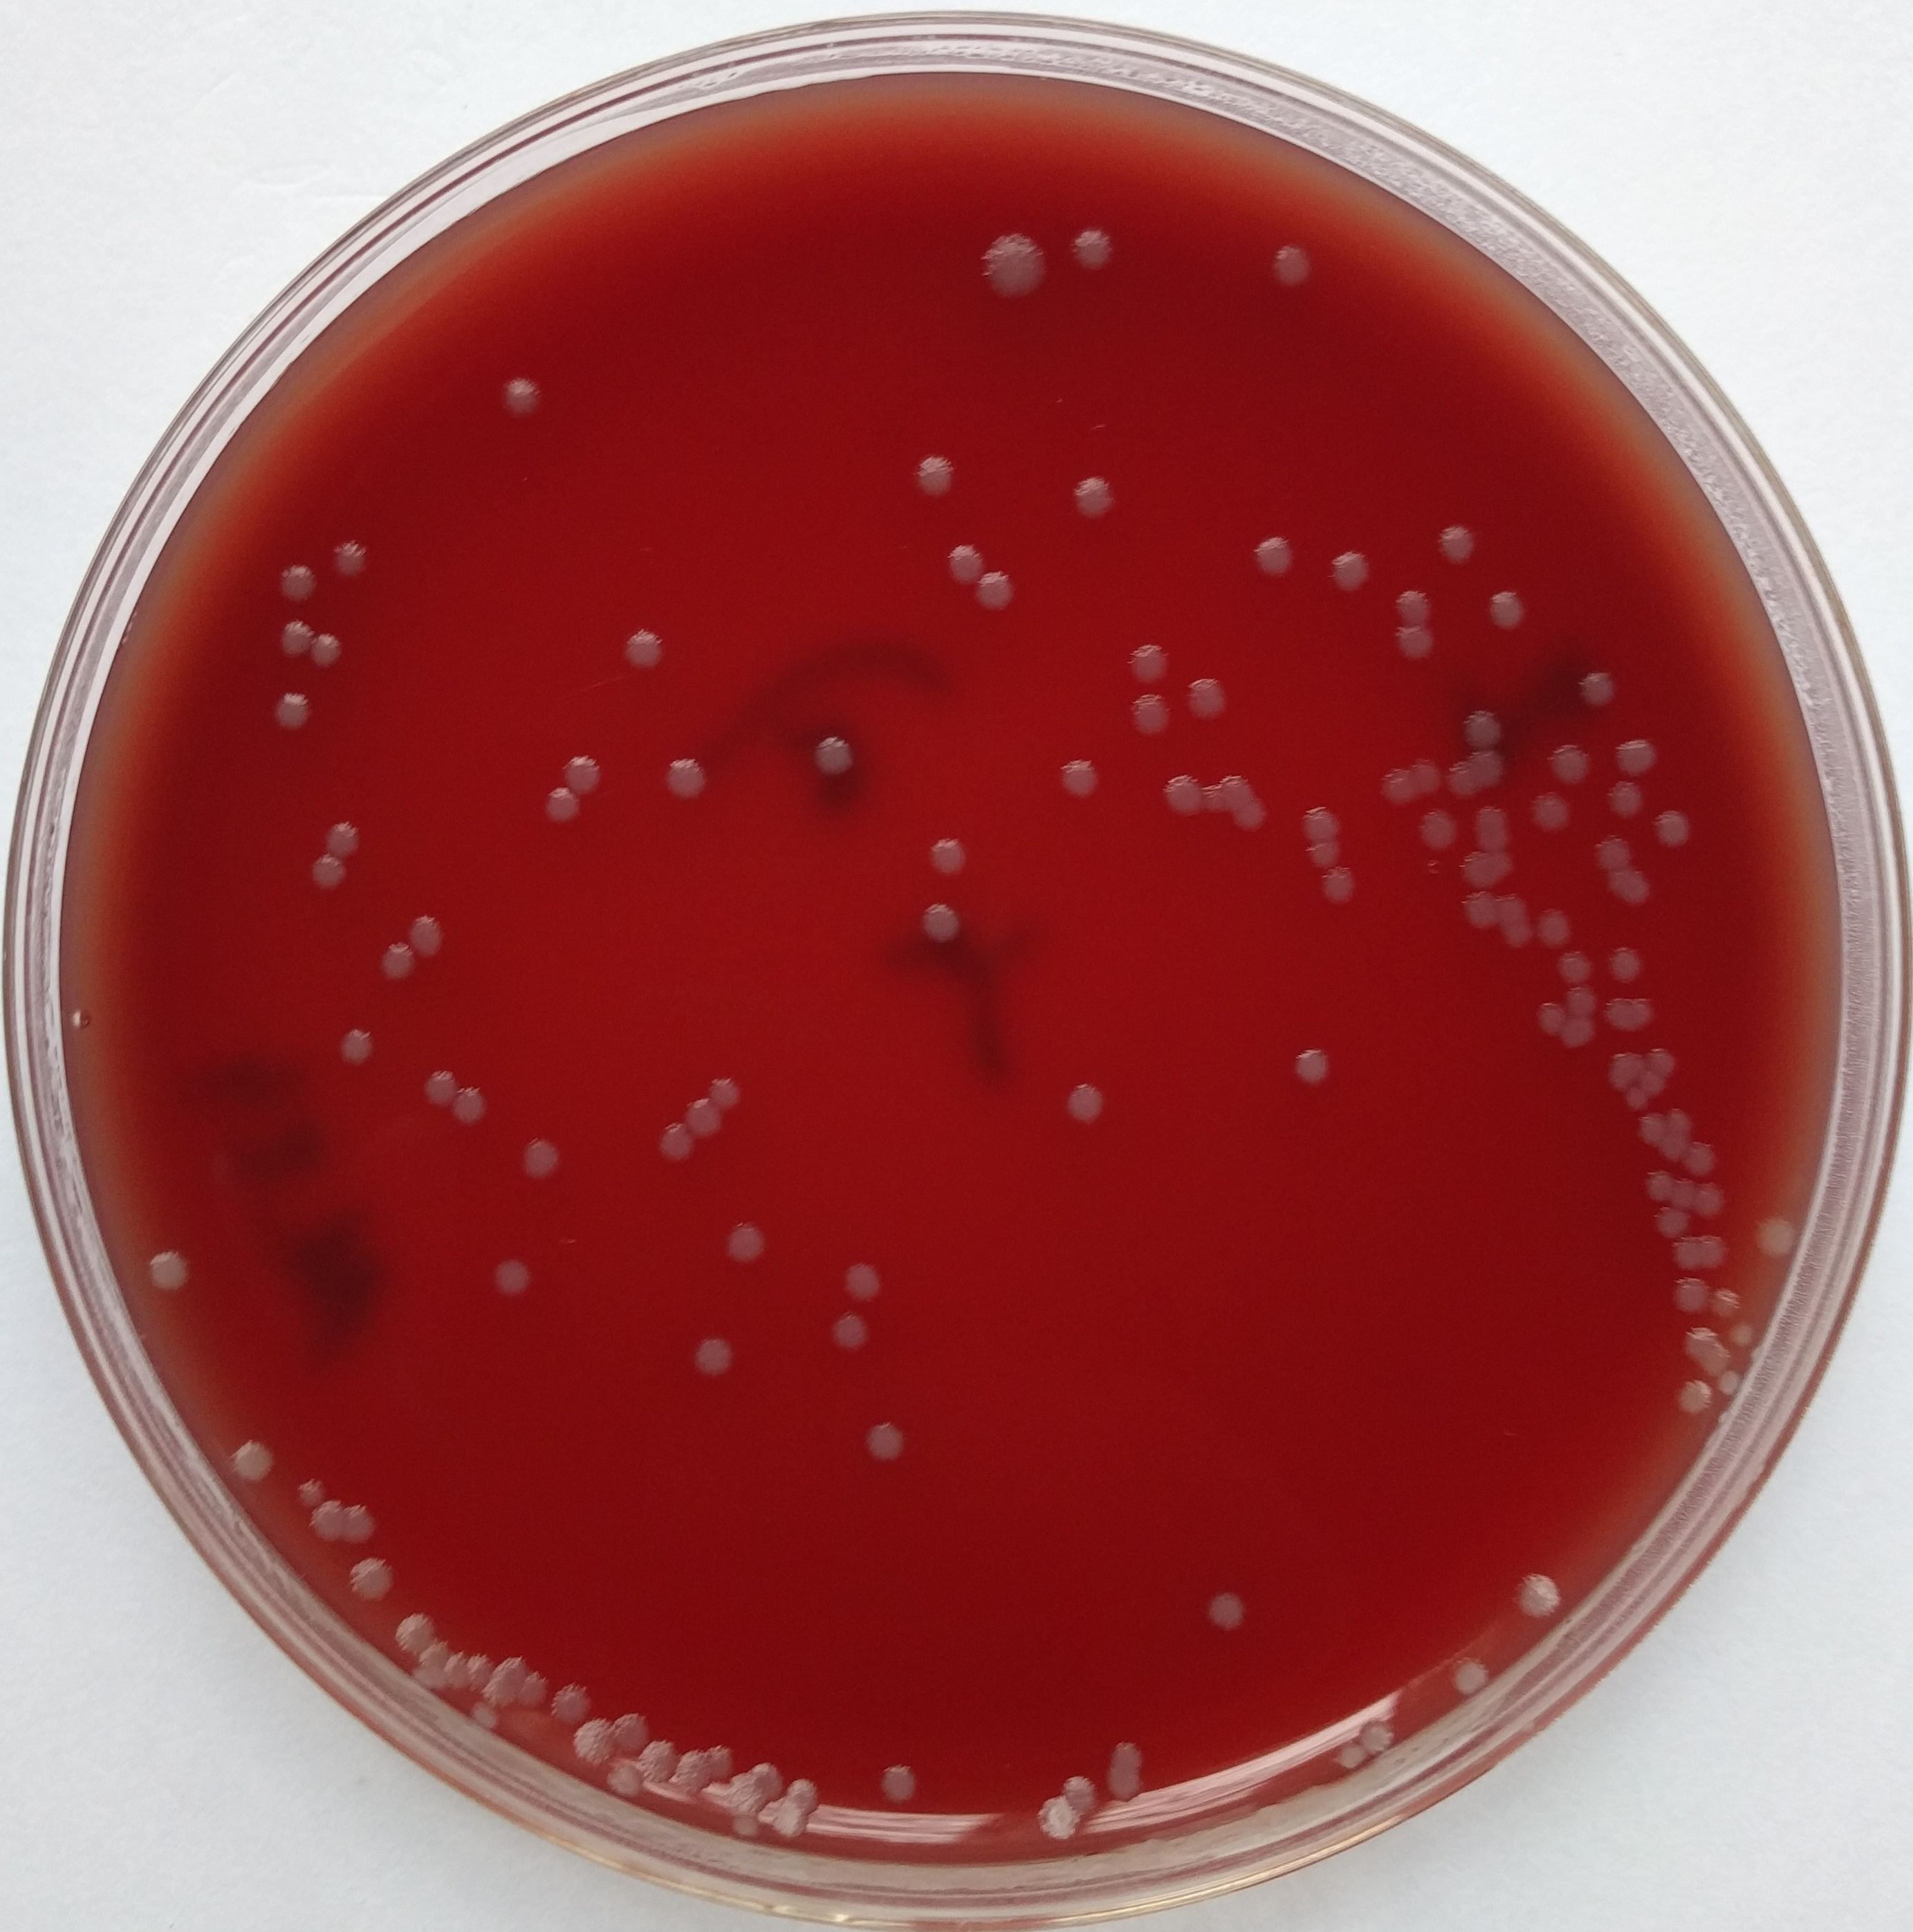sp15: (976, 222, 1053, 305), (135, 1244, 210, 1310), (1251, 229, 1321, 300), (510, 1126, 575, 1195), (1058, 468, 1132, 527), (326, 1018, 392, 1082), (1279, 1035, 1352, 1093), (1056, 221, 1121, 282), (1591, 860, 1659, 918), (1046, 748, 1118, 802), (653, 743, 709, 811), (804, 723, 865, 785), (1053, 1072, 1114, 1133), (224, 1429, 286, 1491), (1244, 527, 1303, 590), (552, 737, 610, 802), (681, 1328, 746, 1386), (1098, 1729, 1149, 1802), (862, 1755, 935, 1806), (1451, 837, 1522, 888), (1507, 1564, 1564, 1627), (1116, 632, 1181, 688), (716, 1214, 781, 1270), (1181, 667, 1240, 727), (855, 1410, 916, 1468), (1536, 739, 1599, 795), (566, 1711, 622, 1774), (1429, 511, 1482, 576), (1200, 1576, 1251, 1643), (909, 895, 969, 951), (822, 1307, 878, 1366), (603, 1748, 662, 1802), (1575, 662, 1627, 723), (1451, 697, 1512, 750), (1669, 1321, 1731, 1373), (904, 450, 967, 501), (942, 532, 993, 596), (1606, 988, 1662, 1044), (1125, 688, 1179, 746), (491, 366, 545, 424), (547, 1678, 604, 1732), (1323, 543, 1373, 604), (1312, 858, 1365, 916), (405, 902, 450, 969), (834, 1259, 893, 1310), (1444, 1653, 1503, 1704), (385, 1606, 438, 1662), (265, 685, 321, 737), (697, 1070, 757, 1119), (1480, 582, 1533, 636), (613, 625, 669, 676), (923, 827, 974, 883), (1610, 734, 1666, 785), (343, 1555, 399, 1606), (270, 555, 326, 606), (1522, 785, 1571, 843), (1647, 799, 1696, 857), (484, 1653, 526, 1720), (1531, 893, 1577, 955), (1387, 582, 1440, 634), (1601, 1044, 1652, 1098), (1154, 769, 1202, 827), (1375, 748, 1417, 813), (487, 1249, 540, 1300), (1032, 1794, 1086, 1843), (636, 1738, 690, 1787), (1419, 802, 1466, 858), (308, 848, 354, 906), (611, 1706, 662, 1757), (1466, 741, 1515, 793), (783, 1767, 832, 1820), (301, 1491, 345, 1548), (971, 566, 1020, 617), (1391, 620, 1444, 667), (512, 1664, 557, 1718), (1470, 799, 1514, 855), (1601, 772, 1645, 829), (1212, 765, 1260, 816), (1552, 941, 1599, 991), (371, 934, 415, 988), (718, 1771, 767, 1818), (746, 1753, 792, 1804), (450, 1081, 496, 1132), (1405, 748, 1447, 802), (674, 1745, 716, 1799), (345, 1498, 382, 1559), (419, 1060, 468, 1105), (1295, 799, 1345, 843), (1678, 1132, 1722, 1182), (653, 1119, 697, 1170), (1585, 827, 1633, 872), (1556, 1007, 1603, 1053), (1752, 1209, 1797, 1256), (1354, 1715, 1401, 1760), (319, 816, 366, 862), (273, 613, 317, 662), (680, 1095, 722, 1146), (1060, 1773, 1105, 1818), (1608, 941, 1652, 988), (333, 534, 377, 582), (1699, 1286, 1748, 1328), (540, 783, 582, 830), (1221, 804, 1268, 846), (767, 1801, 815, 1843), (1692, 1174, 1733, 1223), (1673, 1368, 1713, 1417), (461, 1694, 499, 1745), (1633, 1161, 1677, 1205), (307, 627, 350, 671), (1454, 883, 1496, 928), (1627, 1103, 1669, 1147), (1668, 1224, 1706, 1272), (1529, 991, 1563, 1046), (1671, 1268, 1706, 1319), (459, 1650, 494, 1701), (1659, 1093, 1699, 1137), (1444, 758, 1482, 804), (1652, 1123, 1691, 1168), (1494, 888, 1529, 937), (1302, 832, 1347, 869), (1655, 1196, 1694, 1238), (413, 1632, 445, 1683), (1561, 976, 1599, 1016), (727, 1809, 769, 1846), (1662, 1168, 1698, 1212), (286, 1473, 329, 1508), (1696, 1235, 1733, 1275), (1197, 772, 1230, 816), (1640, 1042, 1684, 1074), (438, 1652, 469, 1696), (1722, 1310, 1755, 1347), (1342, 1736, 1372, 1774), (1715, 1364, 1748, 1396), (1636, 1063, 1666, 1098), (1500, 921, 1538, 948), (1617, 1081, 1650, 1111), (706, 1746, 736, 1778)
